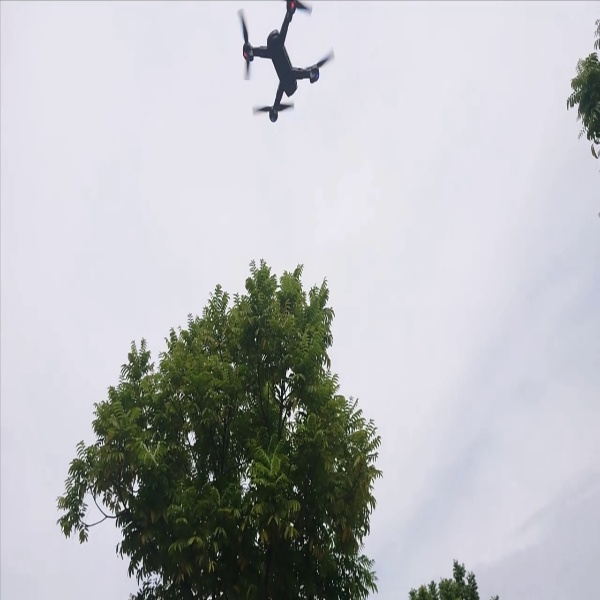drone: (216, 1, 347, 128)
